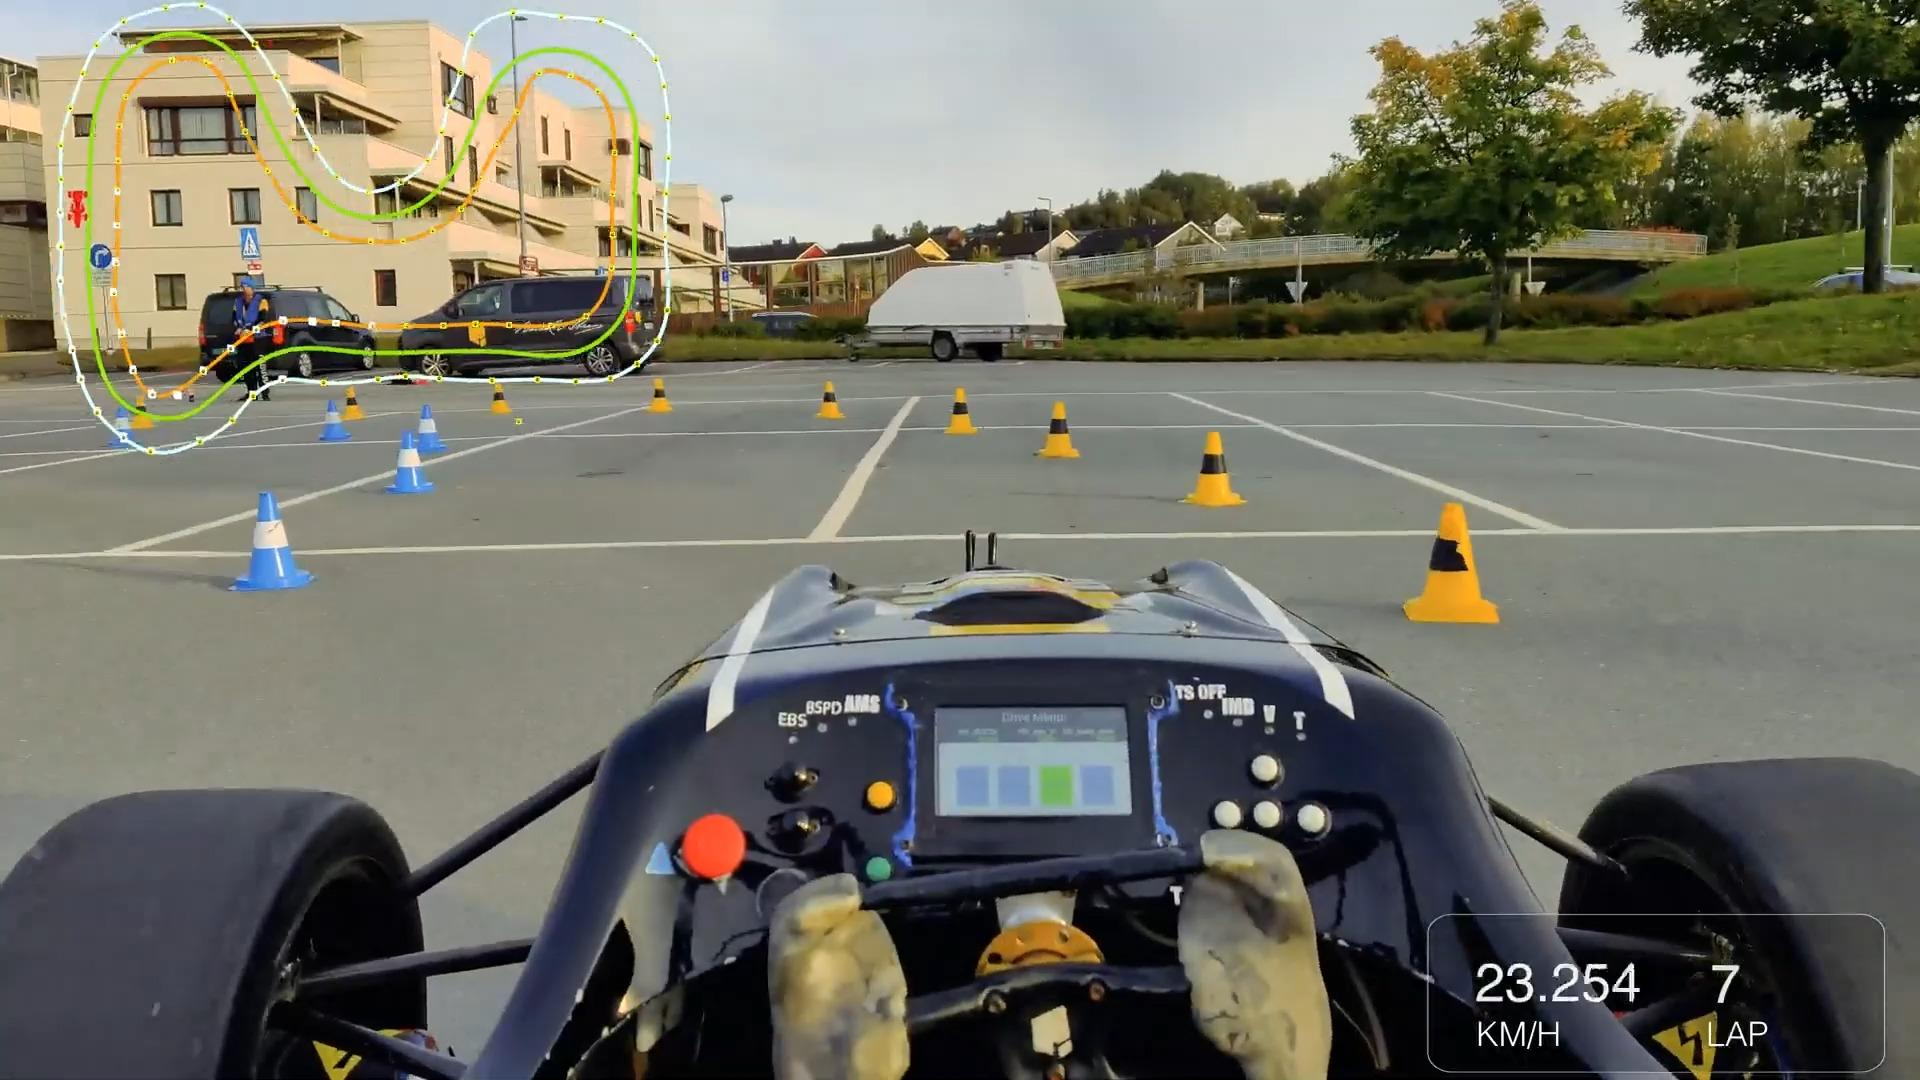blue_cone: (233, 489, 315, 596), (375, 431, 431, 500), (404, 401, 452, 454), (315, 385, 351, 438)
yellow_cone: (1410, 488, 1511, 638), (1187, 414, 1259, 509), (1035, 390, 1083, 458), (938, 380, 982, 444), (810, 373, 852, 426), (480, 373, 524, 423), (637, 365, 679, 413)
